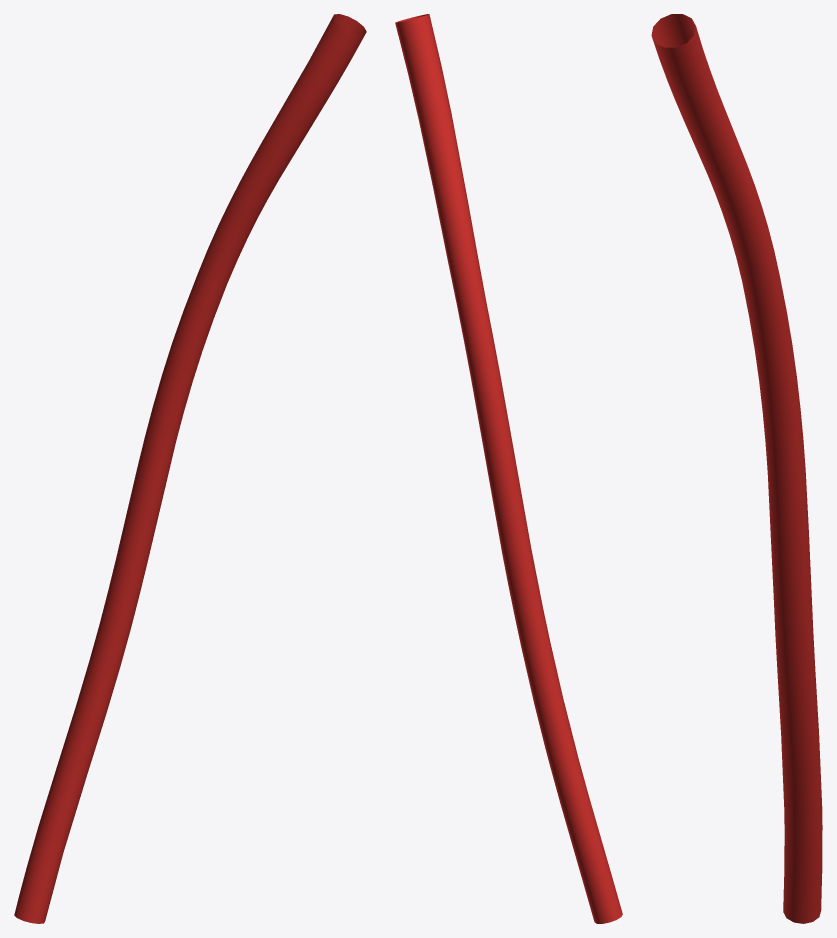
File: circulatorio-middle-collateral-artery-r.glb
3 views of the same model, side by side, from view 1: azimuth 30°, elevation 25°; view 2: azimuth 150°, elevation 25°; view 3: azimuth 270°, elevation 25° (orthographic). The views are drawn at different scales.
Parts seen in each view (by area): view 1: Middle collateral artery.r; view 2: Middle collateral artery.r; view 3: Middle collateral artery.r.
Part boxes in pixels (x1,y1,x2,y2): Middle collateral artery.r: (14,14,366,923); Middle collateral artery.r: (395,14,622,923); Middle collateral artery.r: (651,14,822,923).
Bounding box in the file's own units: 0.0266 × 0.076 × 0.0112.
